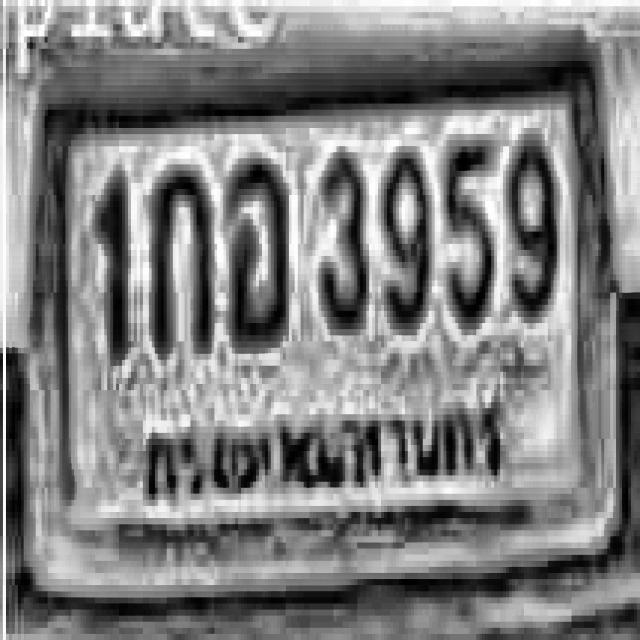license-plate: (24, 51, 618, 602)
